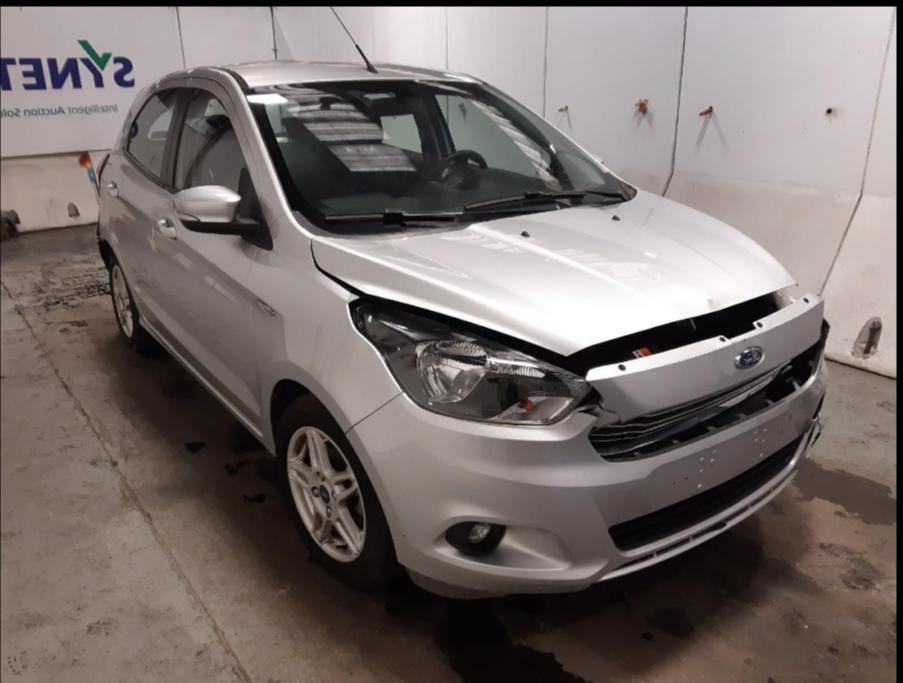Broken part: (560, 281, 825, 433), (309, 239, 579, 371), (590, 318, 832, 463), (783, 387, 826, 493)
Dent: (705, 295, 722, 313)
